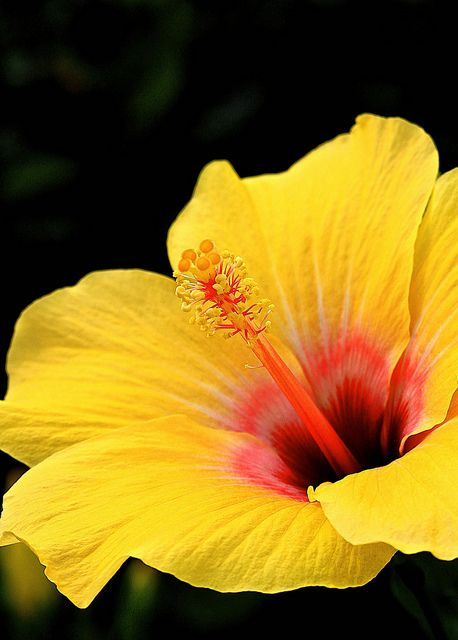Hibiscus: (1, 108, 458, 626)
